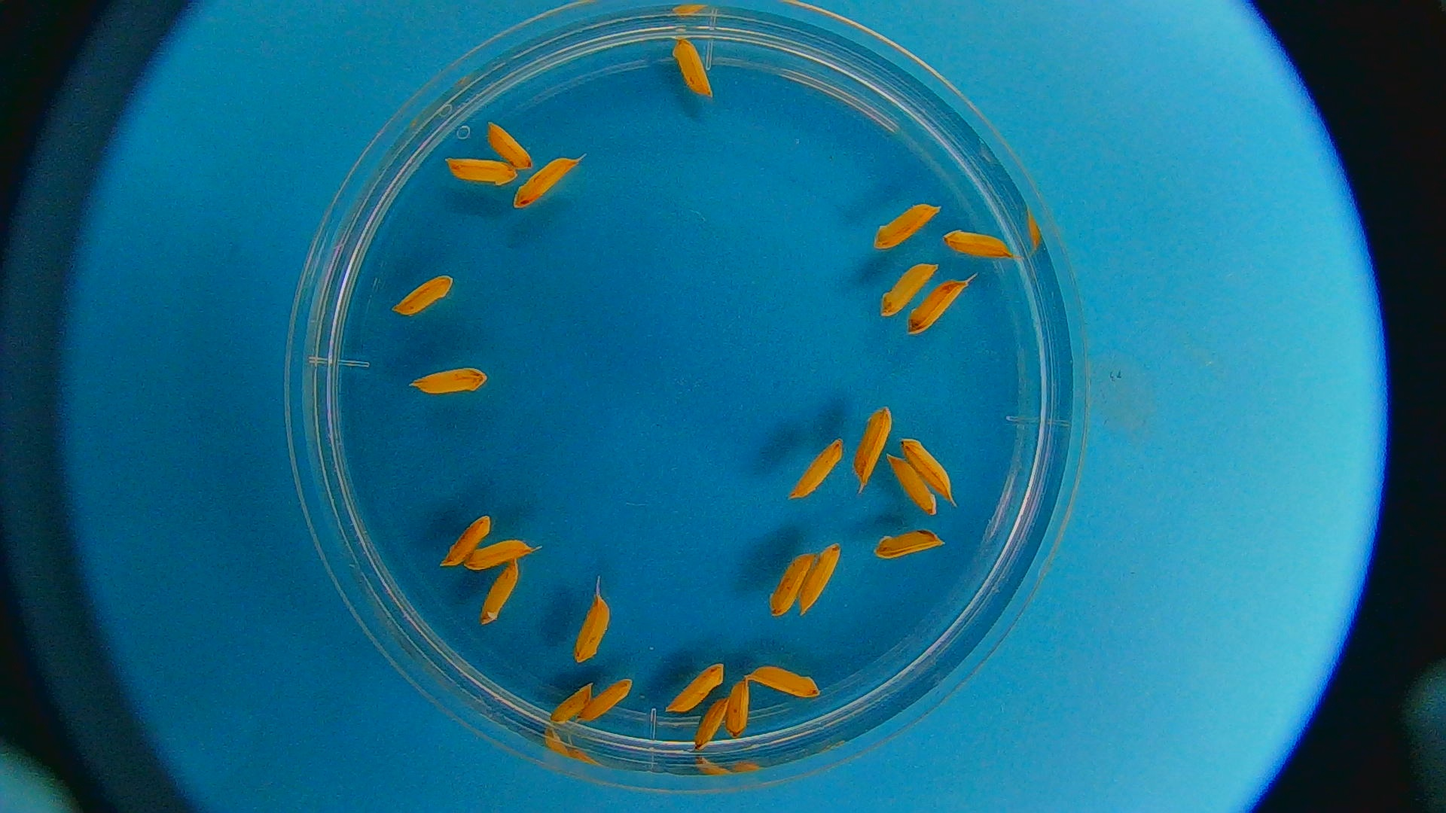no: (512, 155, 578, 209), (900, 431, 953, 498), (873, 200, 941, 249), (474, 559, 520, 629), (881, 263, 938, 318), (853, 405, 893, 483), (910, 280, 968, 333), (889, 454, 938, 516), (668, 662, 726, 714), (794, 439, 843, 497), (796, 546, 838, 612), (440, 513, 490, 568), (394, 274, 457, 315), (573, 594, 611, 661), (749, 665, 821, 700), (672, 35, 714, 94), (772, 553, 813, 613), (410, 367, 491, 397), (486, 120, 535, 169), (579, 678, 633, 722), (941, 229, 1017, 260), (465, 537, 534, 570), (873, 528, 941, 560), (447, 157, 515, 187), (693, 695, 729, 748), (548, 687, 590, 727), (728, 679, 752, 736)
